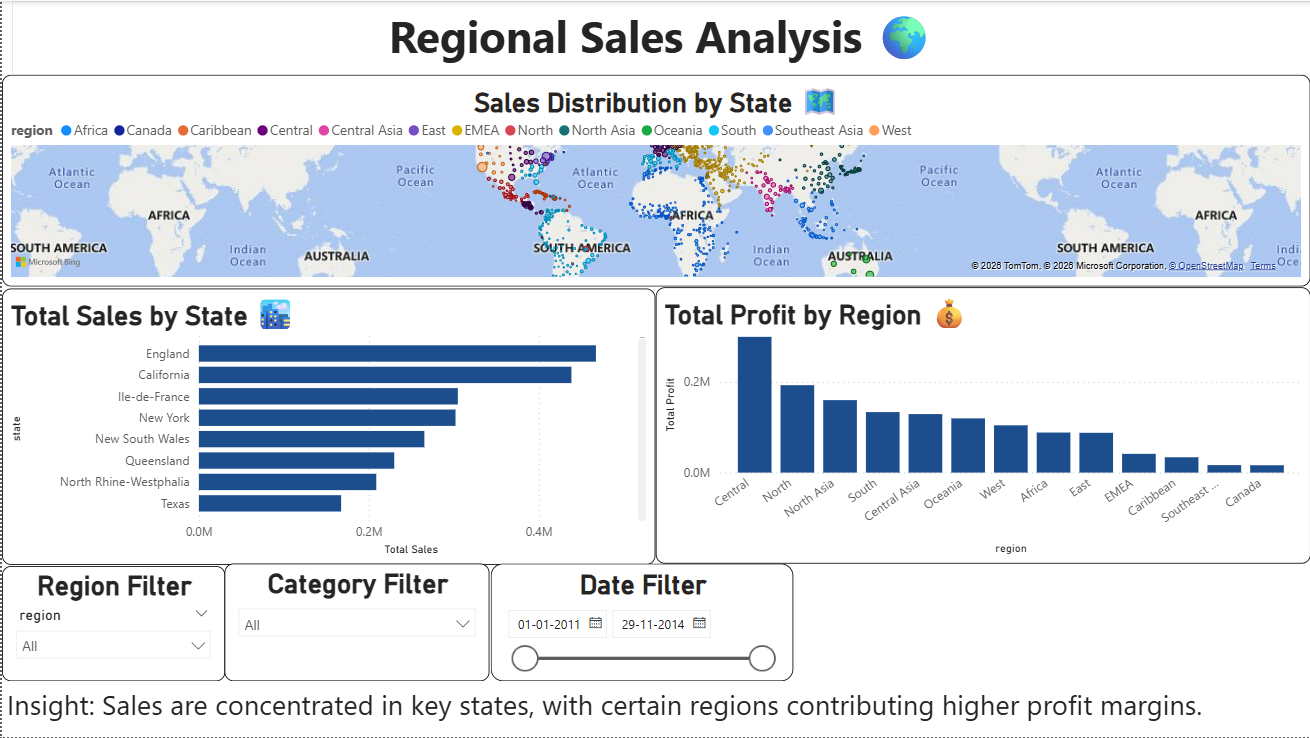

The page's visual inventory and layout, read from the dashboard file:
{"tool":"powerbi","page":{"name":"Regional Analysis","canvas":[1280,720],"ordinal":3},"visuals":[{"type":"textbox","box":[9.6,0,1270.7,72.7],"z":0},{"type":"map","title":"Sales Distribution by State 🗺️","fields":{"Size":["Sales_Data.Total Sales"],"Category":["Sales_Data.state"],"Series":["Sales_Data.region"]},"box":[0,72.7,1280.3,207.2],"z":1000},{"type":"barChart","title":"Total Sales by State 🏙️","fields":{"Category":["Sales_Data.state"],"Y":["Sales_Data.Total Sales"]},"box":[0,281.3,639.5,270.3],"z":2000},{"type":"columnChart","title":"Total Profit by Region 💰","fields":{"Category":["Sales_Data.region"],"Y":["Sales_Data.Total Profit"]},"box":[639.5,279.9,640.8,270.3],"z":3000},{"type":"slicer","title":"Region Filter","fields":{"Values":["Sales_Data.region"]},"box":[0,553,218.2,112.5],"z":4000},{"type":"slicer","title":"Category Filter","fields":{"Values":["Sales_Data.category"]},"box":[218.2,550.3,259.3,115.3],"z":5000},{"type":"slicer","title":"Date Filter","fields":{"Values":["Sales_Data.order_date"]},"box":[477.5,550.3,296.4,115.3],"z":6000},{"type":"textbox","box":[0,665.5,1280.3,54.9],"z":7000}]}

Visuals, with their boxes in screenshot pixels (x1, y1, x2, y2), scaled from the page's 1280x720 canvas onto the 1310x738 screenshot:
textbox: 10/0/1309/75
"Sales Distribution by State 🗺️" map: 0/75/1309/287
"Total Sales by State 🏙️" barChart: 0/288/654/565
"Total Profit by Region 💰" columnChart: 654/287/1309/564
"Region Filter" slicer: 0/567/223/682
"Category Filter" slicer: 223/564/489/682
"Date Filter" slicer: 489/564/792/682
textbox: 0/682/1309/737
